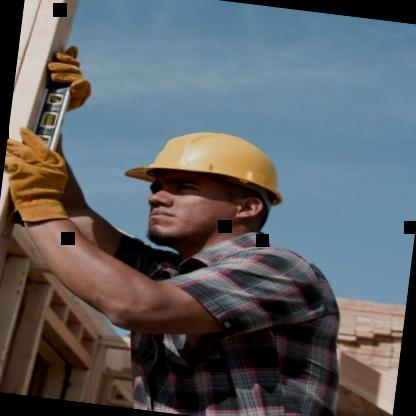helmet: (109, 101, 308, 268)
